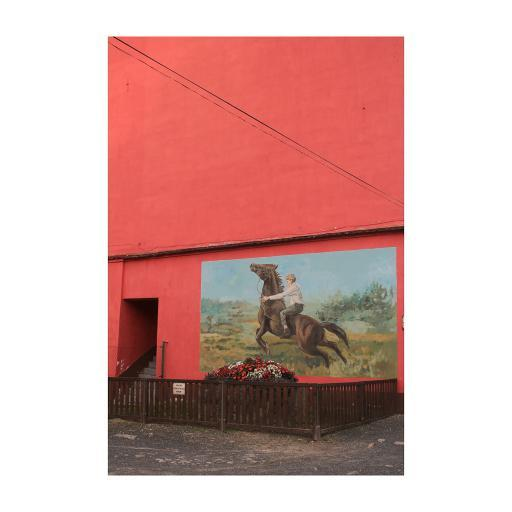Horse: (250, 261, 352, 370)
